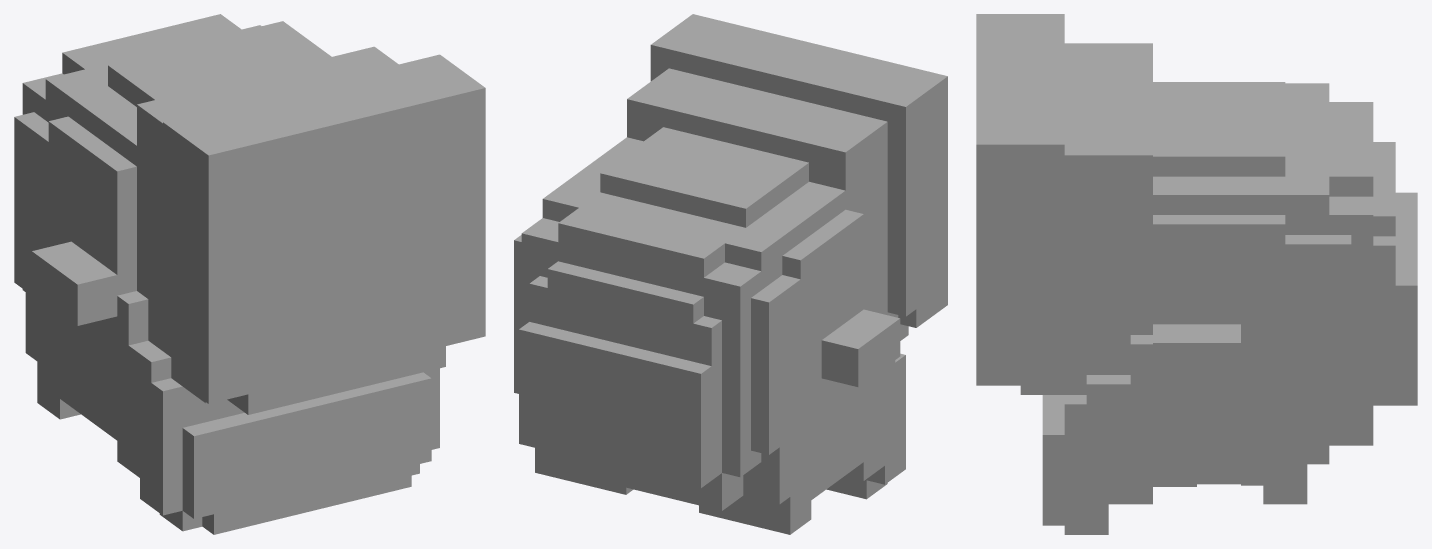
File: gorilla-2-Head.obj
The picture shows the model from 3 angles, left to right: view 1: azimuth 30°, elevation 25°; view 2: azimuth 150°, elevation 25°; view 3: azimuth 270°, elevation 25°; orthographic projection. The views are drawn at different scales.
Visible parts, largest first — view 1: Head; view 2: Head; view 3: Head.
Part boxes in pixels (x1=…): Head: x1=14, y1=14, x2=485, y2=534; Head: x1=514, y1=14, x2=947, y2=534; Head: x1=976, y1=14, x2=1417, y2=534.
Size of the model in its own units: 1.8 by 2 by 2.
Materials: 1 (1 with a texture image).
